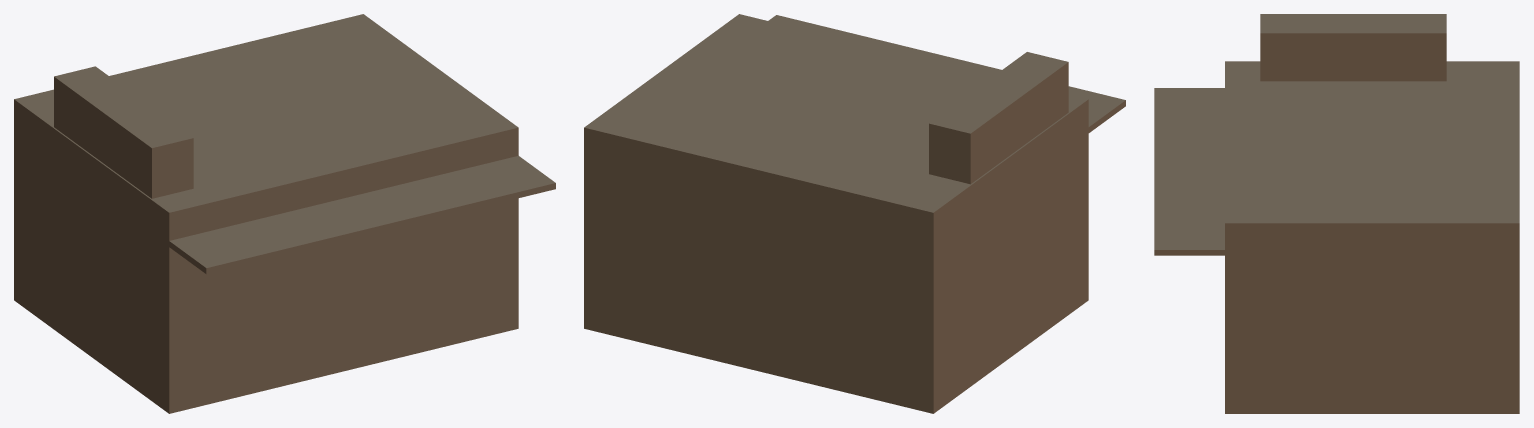
The model's file is cr-trading-post.far-facades-v3.lod2.glb.
3 views of the same model, side by side, from view 1: azimuth 30°, elevation 25°; view 2: azimuth 150°, elevation 25°; view 3: azimuth 270°, elevation 25° (orthographic). The views are drawn at different scales.
Visible parts, largest first — view 1: cr-trading-post; view 2: cr-trading-post; view 3: cr-trading-post.
Boxes of the visible parts, x1,y1,x2,y2 form: cr-trading-post: (14,14,555,413); cr-trading-post: (584,14,1125,413); cr-trading-post: (1154,14,1519,413).
Bounding box in the file's own units: 13 × 8.95 × 12.4.
